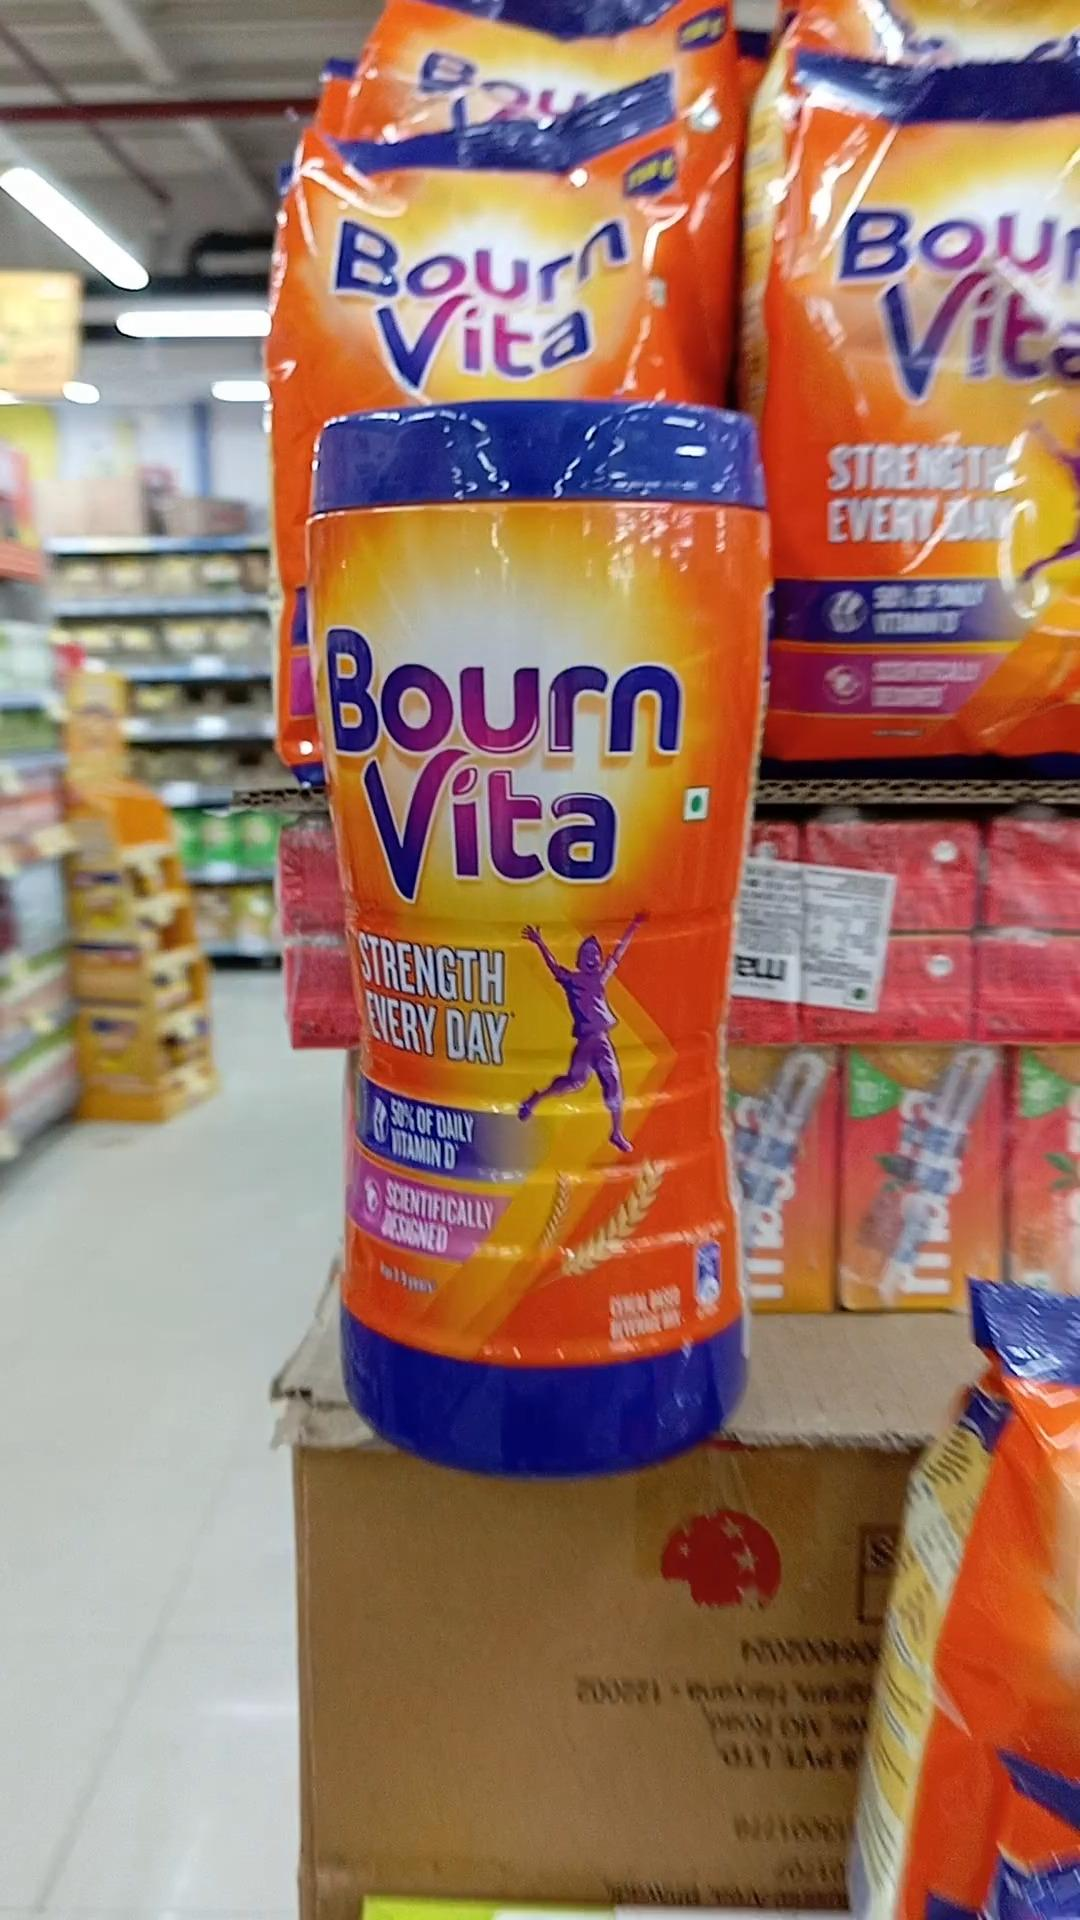BOURN_VITA_1_KG_JAR: (306, 363, 766, 1470)
